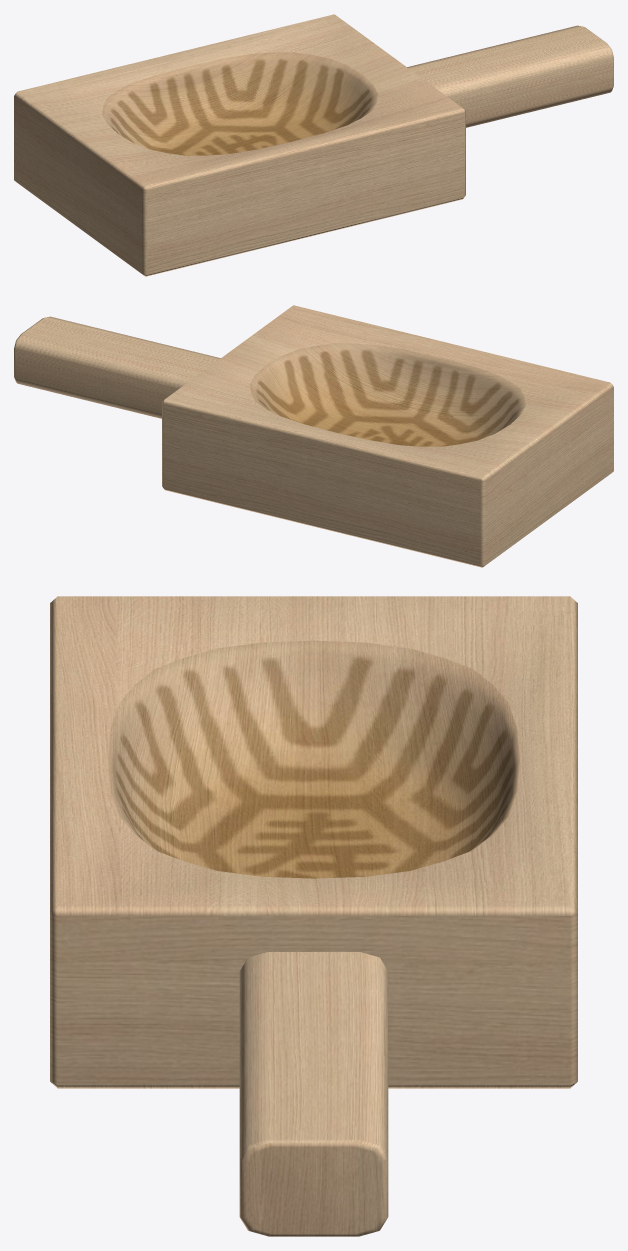
The model's file is mold.fbx.
3 views of the same model, one above another, from view 1: azimuth 30°, elevation 25°; view 2: azimuth 150°, elevation 25°; view 3: azimuth 270°, elevation 25° (orthographic). The views are drawn at different scales.
Parts seen in each view (by area): view 1: mold; view 2: mold; view 3: mold.
Part boxes in pixels (left/top/right/bottom): mold: left=14, top=14, right=613, bottom=276; mold: left=14, top=305, right=613, bottom=567; mold: left=50, top=596, right=577, bottom=1236.
Bounding box in the file's own units: 21.92 × 3.69 × 9.67.
